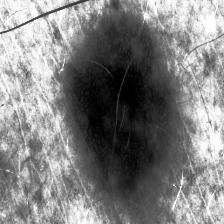Benign Marking or Mole: (64, 17, 174, 200)
